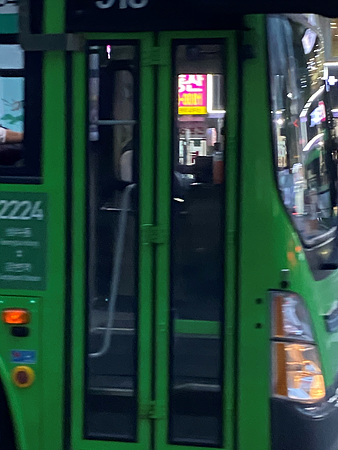entrance: (69, 32, 244, 449)
